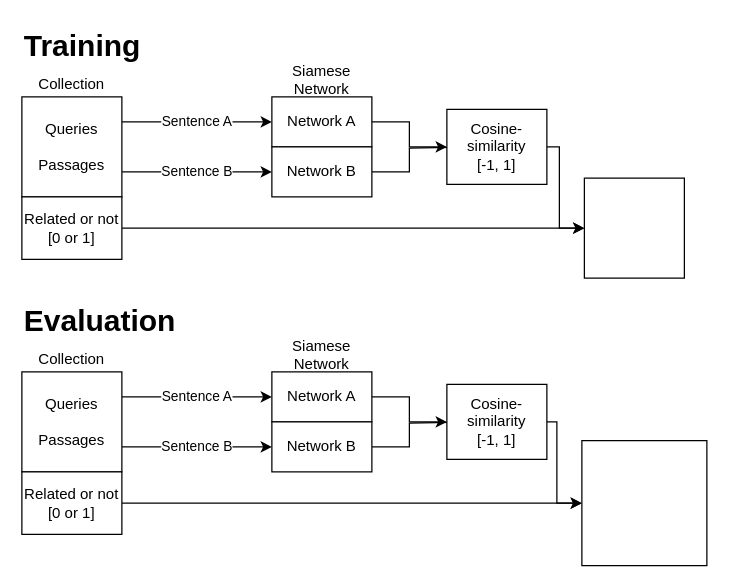
The diagram is 729 pixels wide and 588 high, and some of its shapes have lost their labels. Each missing label, with the box of its shape:
Accuracy Threshold cosine-similarity and compare to related or not: (581, 439, 707, 566)
MSE loss for training: (583, 177, 684, 278)
